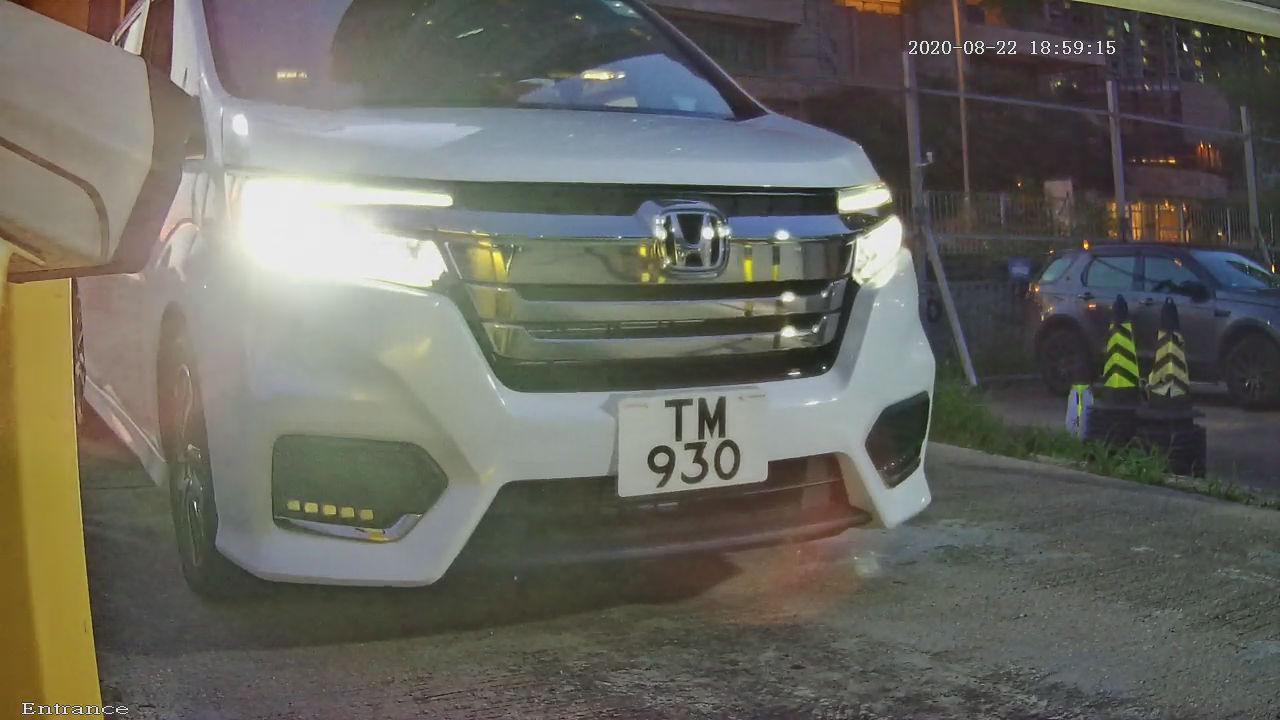License Plate: (600, 377, 783, 512)
